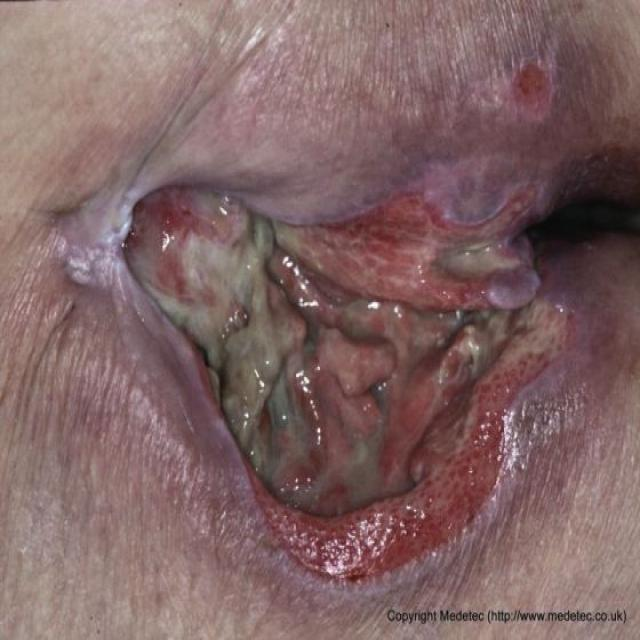stage-4: (124, 186, 565, 577)
